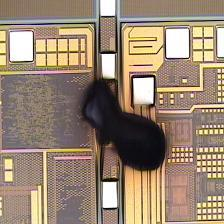PARTICLE: (79, 76, 168, 174)
